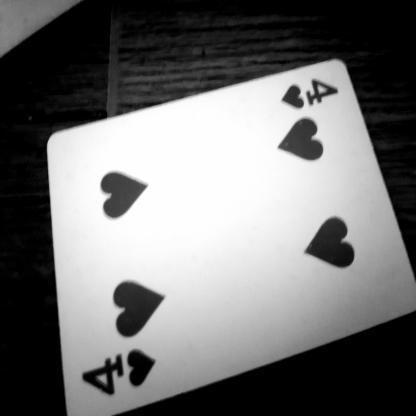4H: (80, 351, 180, 405), (276, 61, 344, 122)
